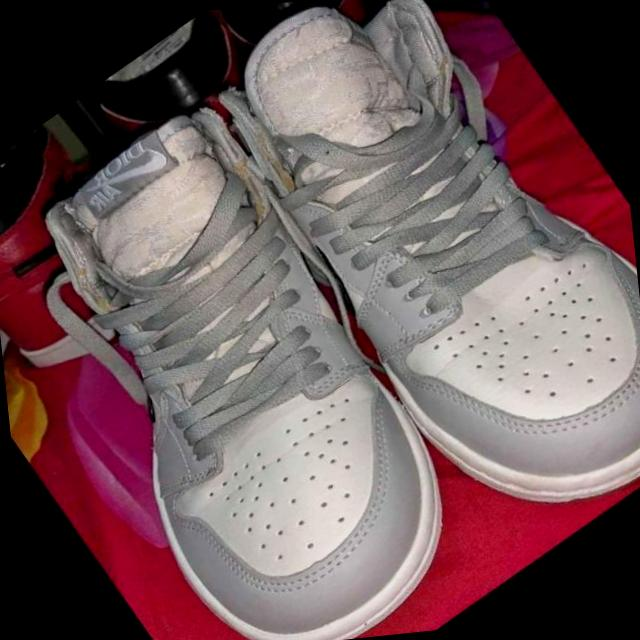nike_fake_jordan: (0, 61, 523, 640), (170, 0, 640, 598)
